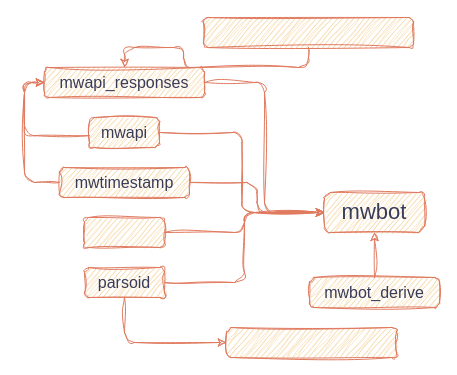
Image size: 457x375. Some labels were removed from this diagram. The shapes that lost their labels are listed below. From the top down, each one's centre as x and y in pixels, then its label:
the point at 308,32: mwapi_responses_derive
the point at 124,232: mwtitle
the point at 311,342: wikipedia_prosesize
